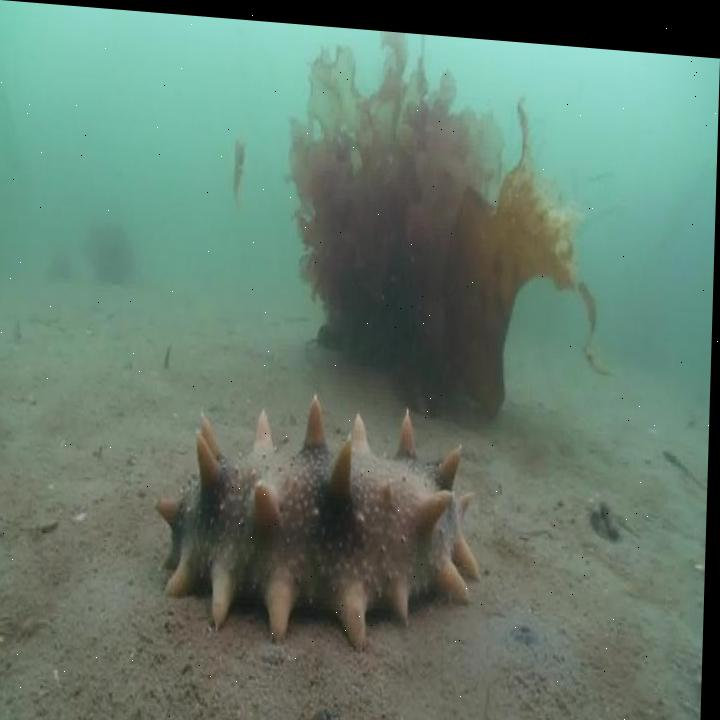holothurian: (146, 382, 489, 645)
